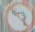Don't turn left: (2, 0, 34, 30)
